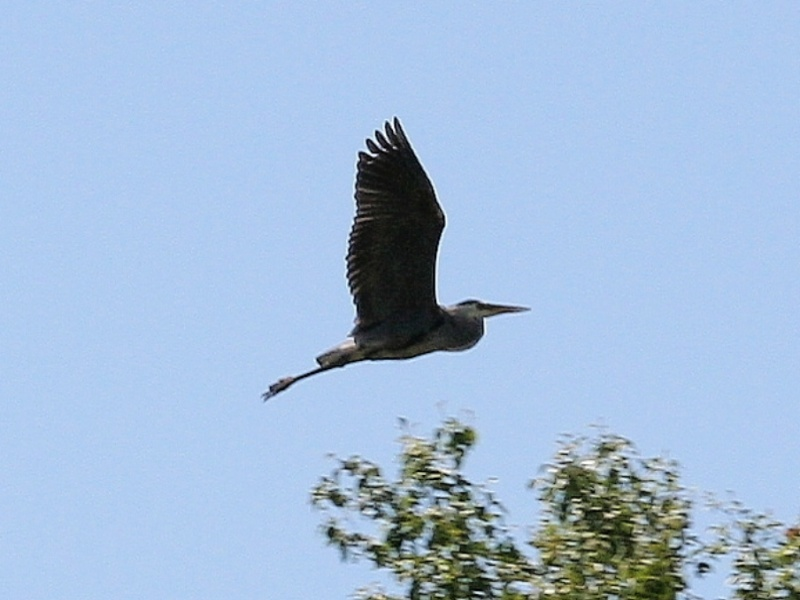heron: (255, 113, 533, 410)
